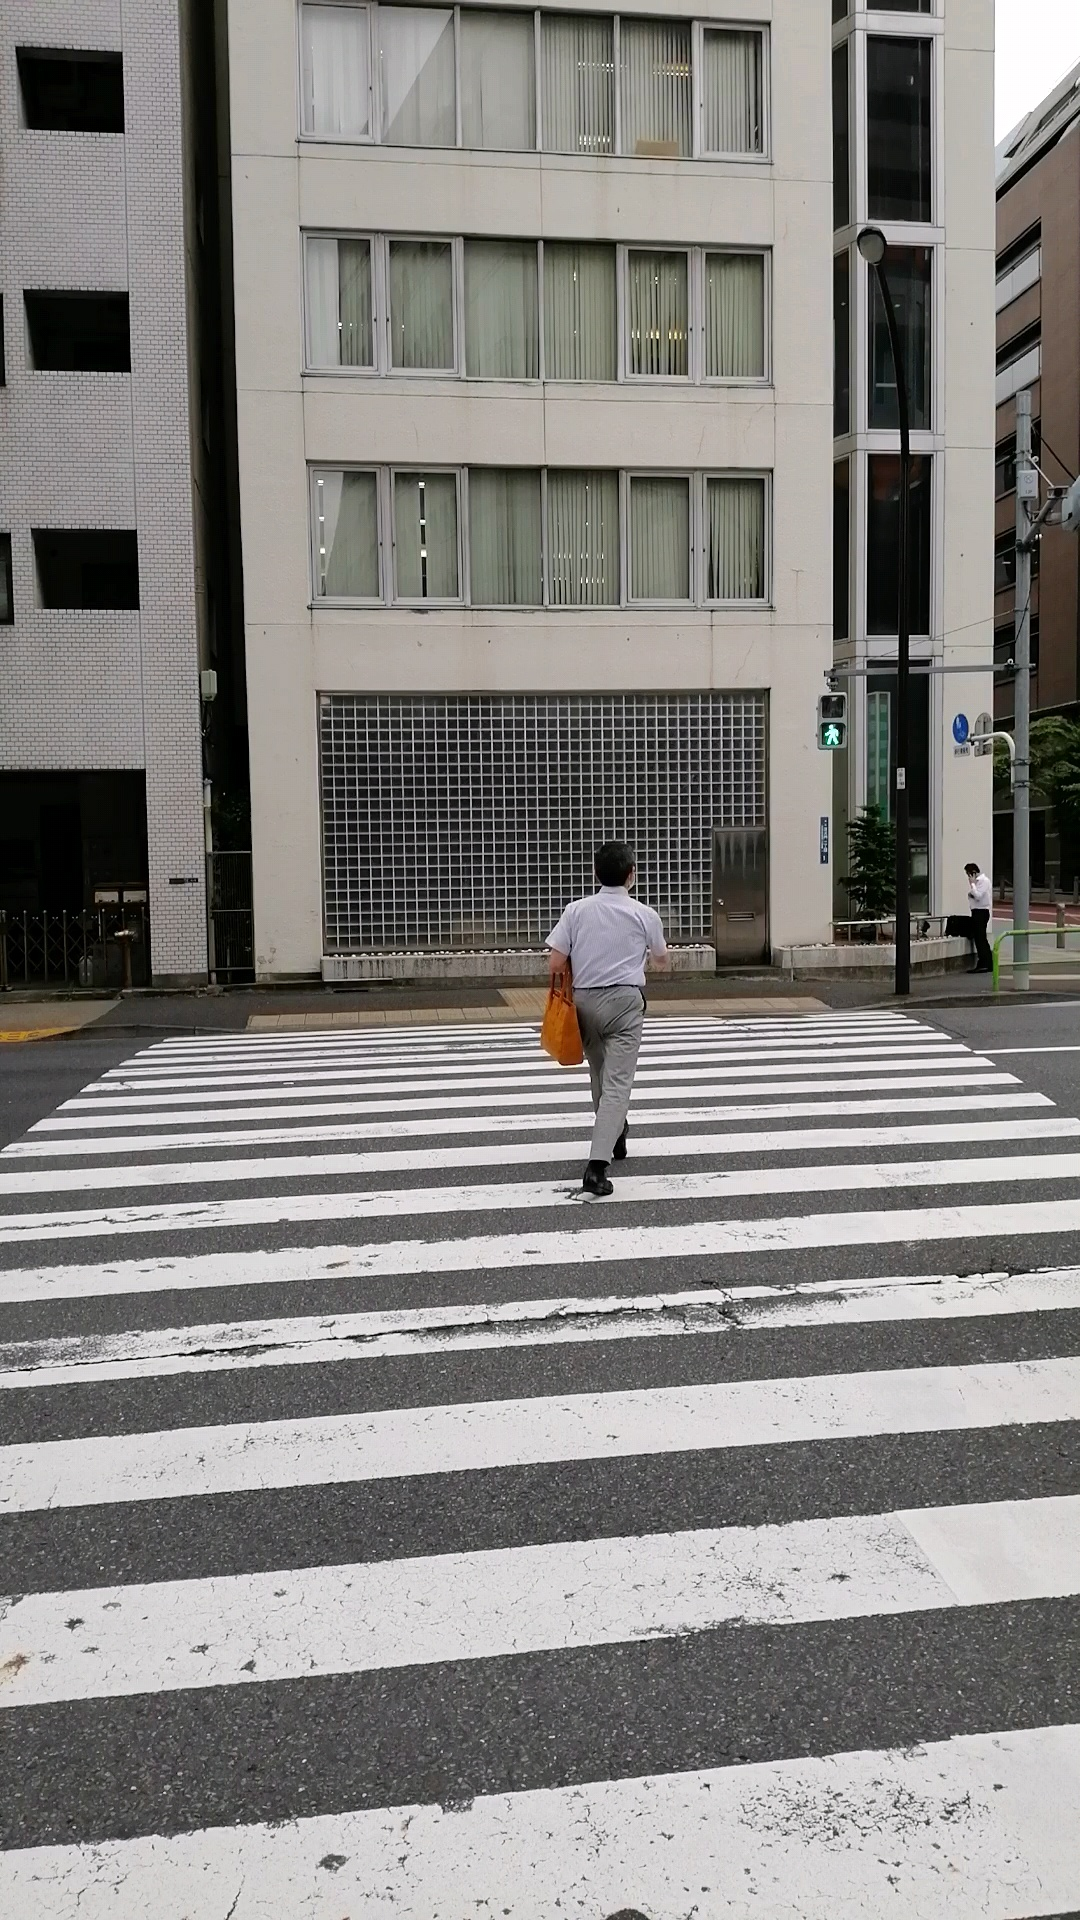green: (815, 691, 847, 748)
